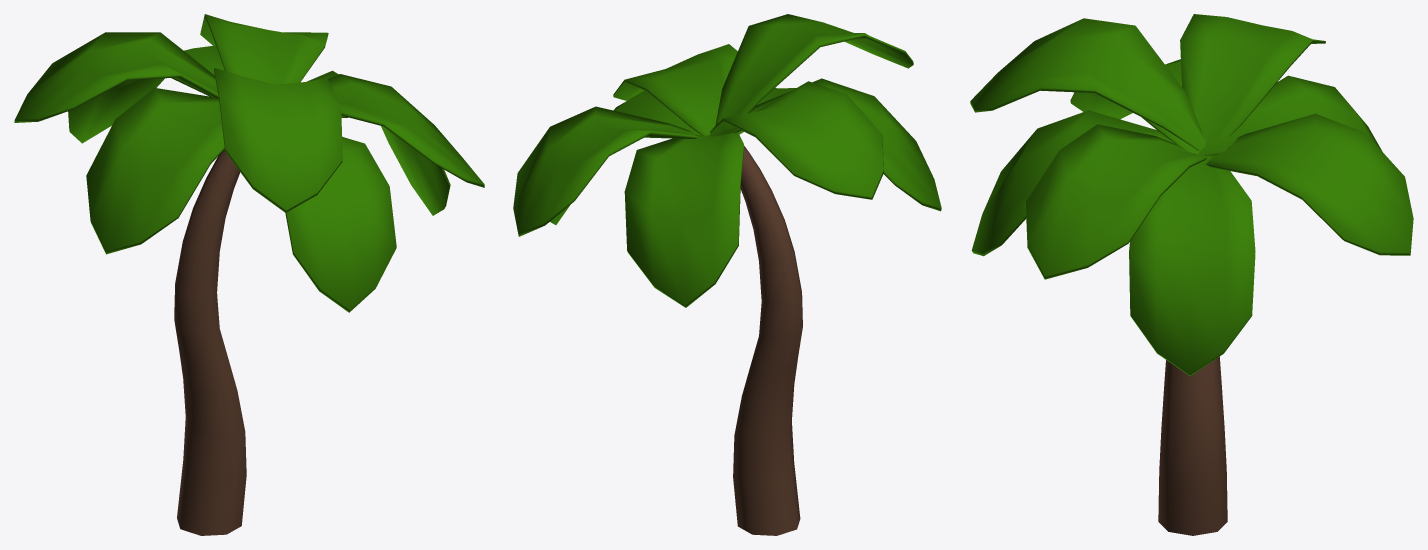
Rendered from Coqueiro.fbx.
The picture shows the model from 3 angles, left to right: view 1: azimuth 30°, elevation 25°; view 2: azimuth 150°, elevation 25°; view 3: azimuth 270°, elevation 25°; orthographic projection. The views are drawn at different scales.
Parts seen in each view (by area): view 1: Coqueiro; view 2: Coqueiro; view 3: Coqueiro.
Part boxes in pixels (x1=…): Coqueiro: x1=14, y1=14, x2=484, y2=535; Coqueiro: x1=513, y1=14, x2=941, y2=535; Coqueiro: x1=970, y1=14, x2=1413, y2=535.
Size of the model in its own units: 414 by 507 by 420.
